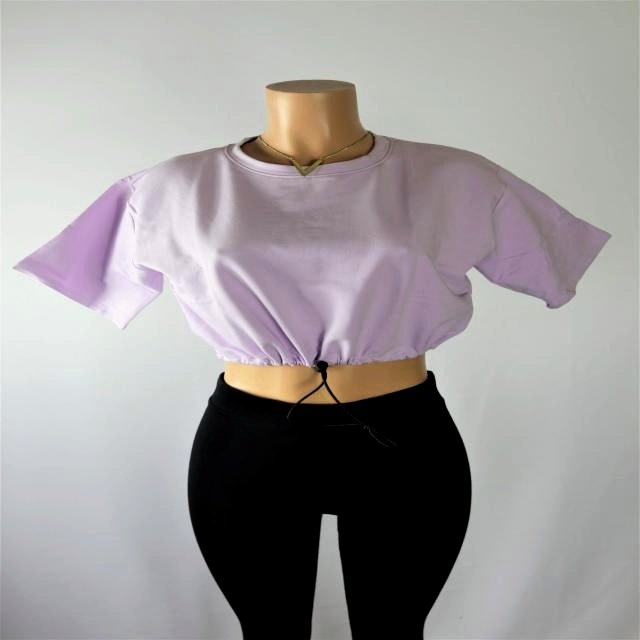Crop_Top: (216, 168, 433, 404)
